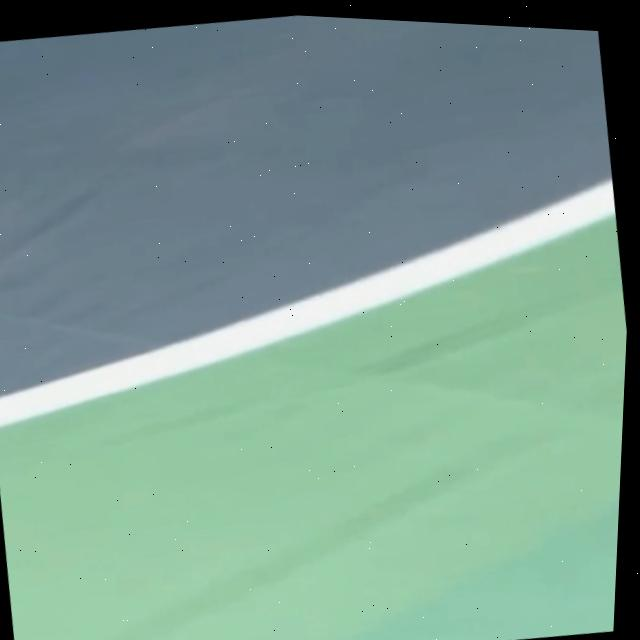right: (0, 178, 616, 426)
